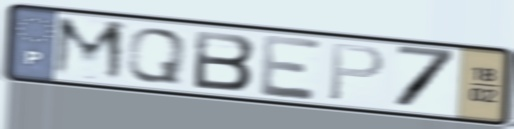7: (393, 43, 459, 114)
B: (190, 28, 259, 93)
E: (258, 32, 325, 103)
M: (48, 13, 129, 85)
P: (325, 41, 388, 103)
Q: (123, 25, 190, 86)
